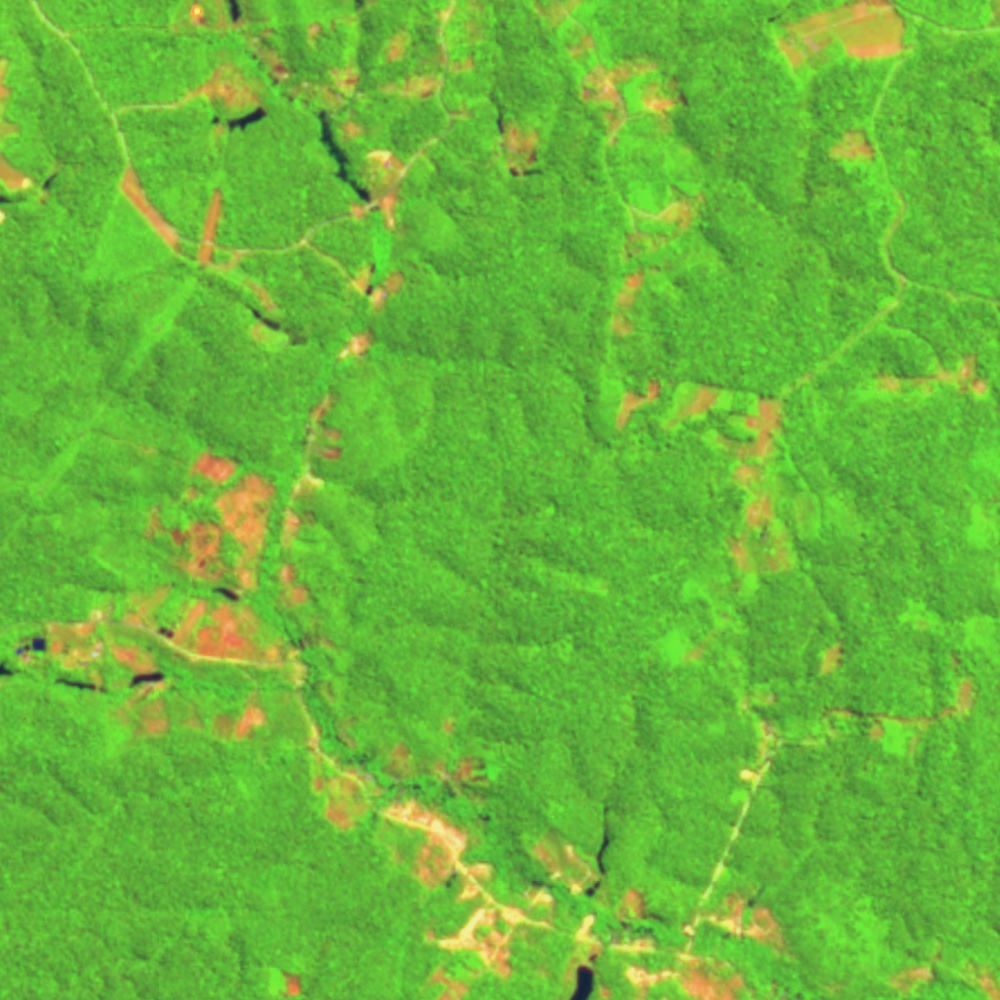legal: (1, 605, 204, 741), (146, 446, 275, 598), (136, 585, 338, 663), (613, 377, 793, 462), (234, 18, 364, 135), (563, 35, 693, 144), (312, 105, 416, 238), (790, 676, 976, 748), (385, 798, 494, 902), (768, 1, 916, 76), (387, 1, 493, 99), (722, 464, 809, 577), (521, 807, 612, 914), (1, 59, 58, 226), (303, 726, 384, 834), (388, 717, 490, 794), (683, 894, 794, 960), (423, 907, 519, 982), (115, 161, 186, 253), (624, 950, 754, 1000), (189, 64, 270, 144), (620, 184, 708, 256), (870, 351, 991, 401), (293, 386, 345, 496), (240, 273, 305, 351), (736, 692, 785, 786), (491, 97, 547, 178), (349, 254, 409, 314), (568, 908, 607, 1000), (211, 690, 271, 746), (605, 266, 649, 340), (888, 937, 945, 994), (685, 610, 728, 666), (828, 126, 880, 169), (610, 886, 667, 925), (185, 1, 246, 37), (195, 185, 222, 265), (283, 503, 318, 554), (960, 957, 1000, 1000), (426, 966, 470, 1000), (278, 558, 310, 601), (339, 325, 377, 361), (541, 1, 579, 36), (819, 634, 848, 675), (270, 963, 303, 995), (946, 646, 964, 676)
